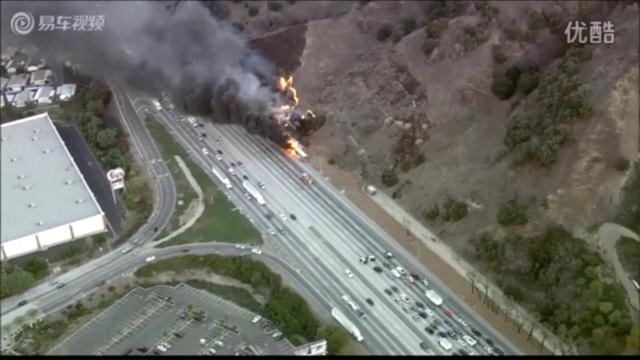fire: (288, 138, 300, 156), (278, 76, 288, 90)
